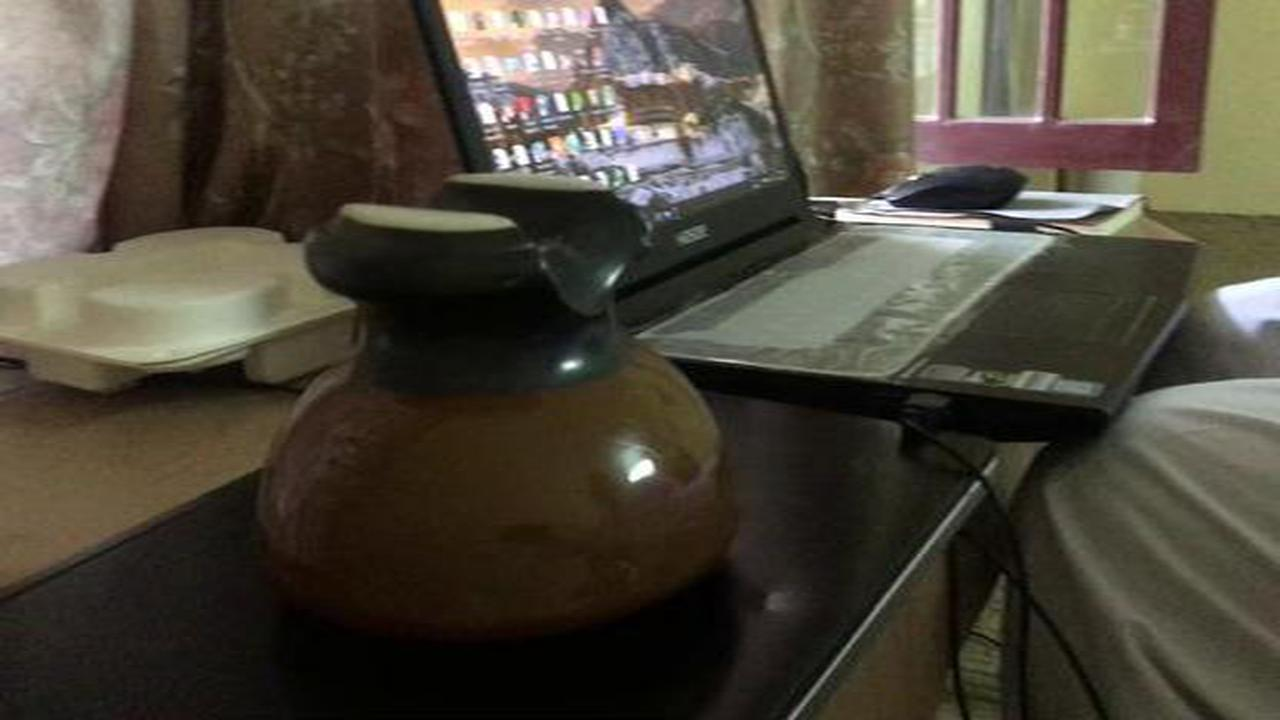insulator_pin: (228, 157, 751, 644)
